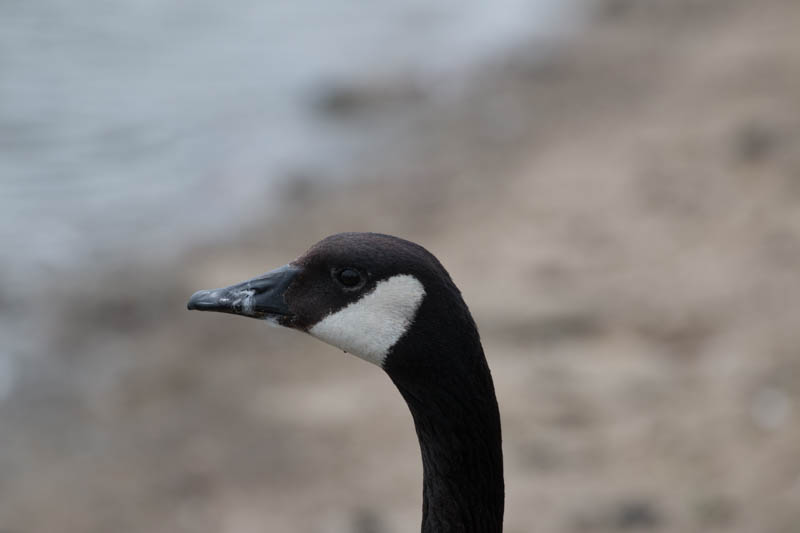goose-head: (187, 231, 488, 371)
